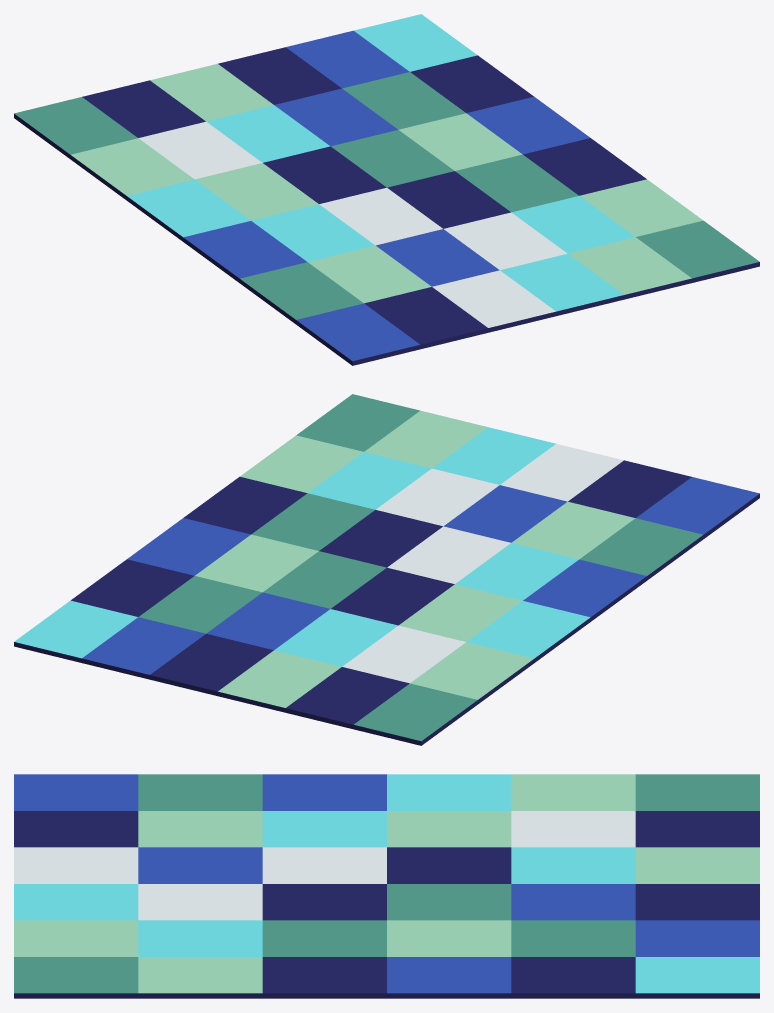
The model's file is Interior_Rug02.fbx.
3 views of the same model, one above another, from view 1: azimuth 30°, elevation 25°; view 2: azimuth 150°, elevation 25°; view 3: azimuth 270°, elevation 25° (orthographic). The views are drawn at different scales.
Visible parts, largest first — view 1: Plane.056; view 2: Plane.056; view 3: Plane.056.
Boxes of the visible parts, x1,y1,x2,y2 form: Plane.056: (14,14,759,365); Plane.056: (14,394,759,745); Plane.056: (14,774,759,998).
Bounding box in the file's own units: 200 × 2.19 × 288.
